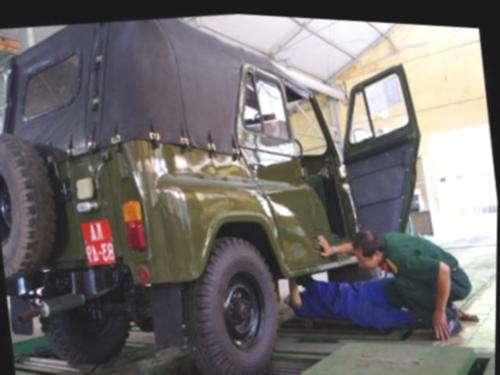License_Plate: (85, 217, 116, 271)
